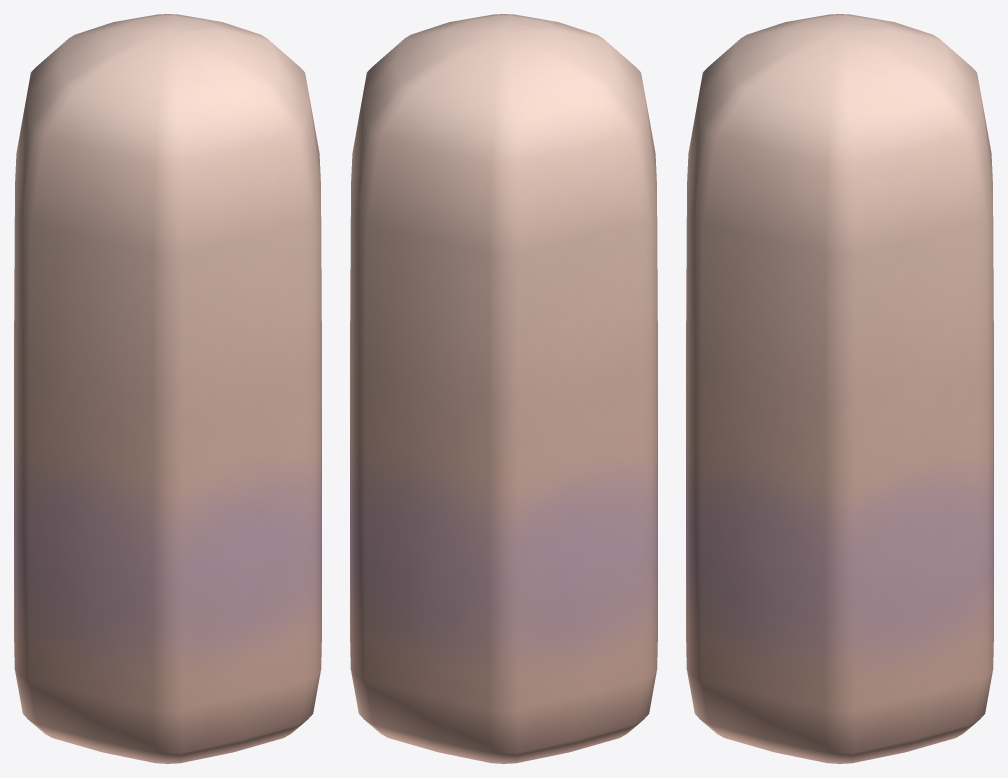
Rendered from Cell_Columnar.fbx.
3 views of the same model, side by side, from view 1: azimuth 30°, elevation 25°; view 2: azimuth 150°, elevation 25°; view 3: azimuth 270°, elevation 25° (orthographic).
Visible parts, largest first — view 1: Cell_Columnar; view 2: Cell_Columnar; view 3: Cell_Columnar.
Part boxes in pixels (x1=…): Cell_Columnar: x1=14, y1=14, x2=321, y2=763; Cell_Columnar: x1=350, y1=14, x2=657, y2=763; Cell_Columnar: x1=686, y1=14, x2=993, y2=763.
Bounding box in the file's own units: 0.6665 × 1.45 × 0.6.
